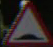Speed Breaker ahead: (3, 4, 45, 45)
